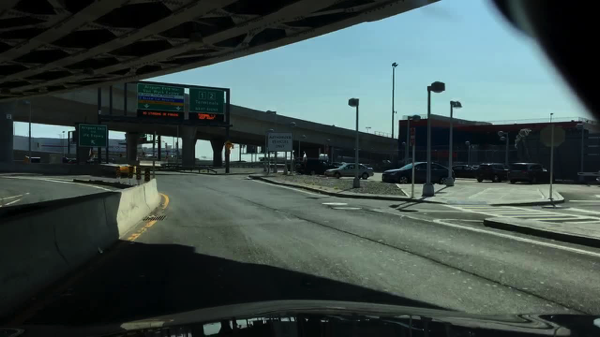car: (381, 162, 454, 184), (324, 163, 374, 180), (510, 163, 548, 184), (476, 163, 512, 183), (295, 160, 338, 176), (448, 165, 480, 179), (332, 162, 344, 167), (144, 155, 156, 158), (472, 165, 480, 169)
traffic sign: (136, 84, 187, 122), (189, 88, 224, 126), (78, 125, 108, 148), (539, 126, 566, 147), (266, 132, 293, 152), (247, 145, 257, 153), (225, 141, 232, 149), (139, 133, 146, 138), (225, 150, 230, 154)
